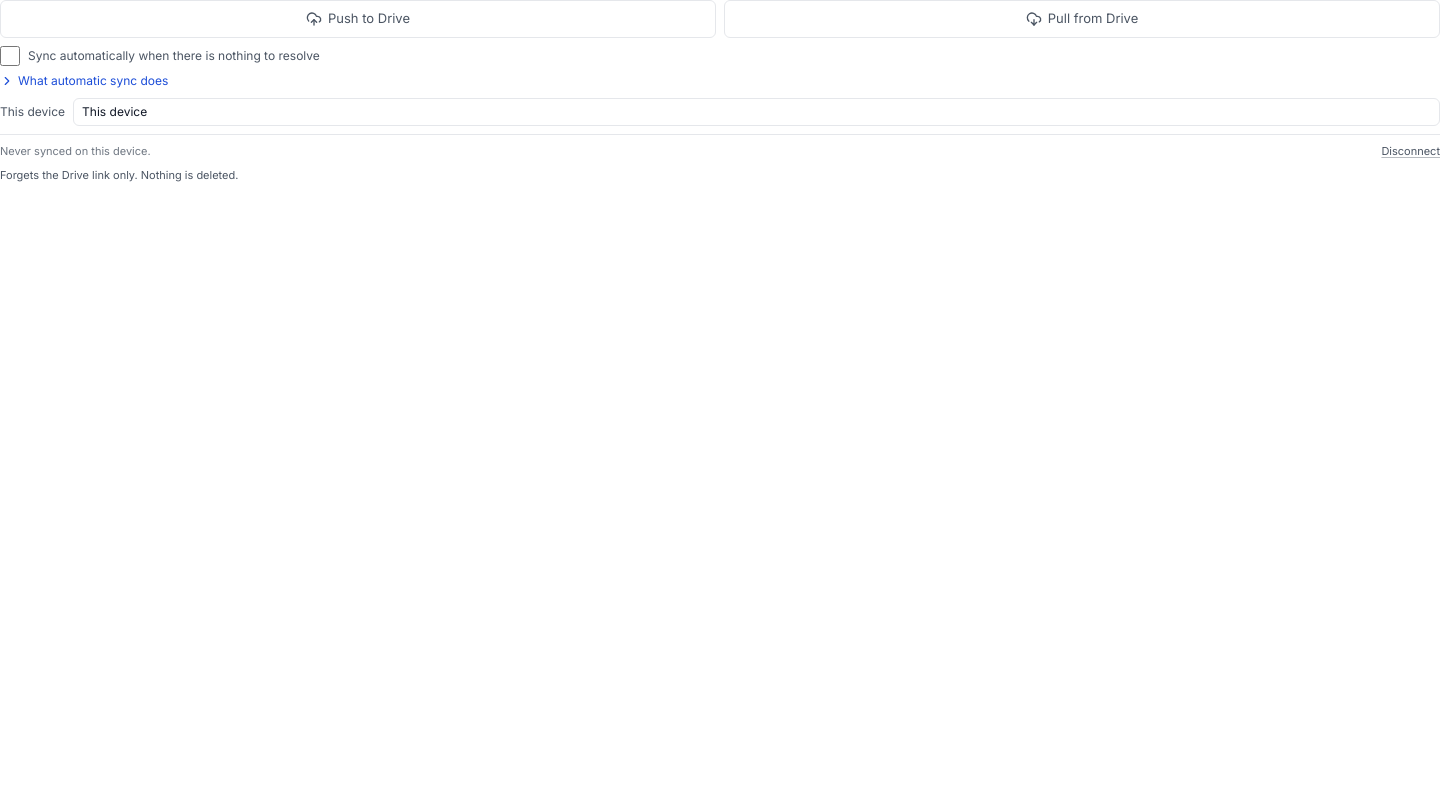
DriveSyncControls › cancels the pull when the user backs out of a conflict dialog
Click the button "Pull from Drive": coordinates (1082, 19) [724,0,1439,38]
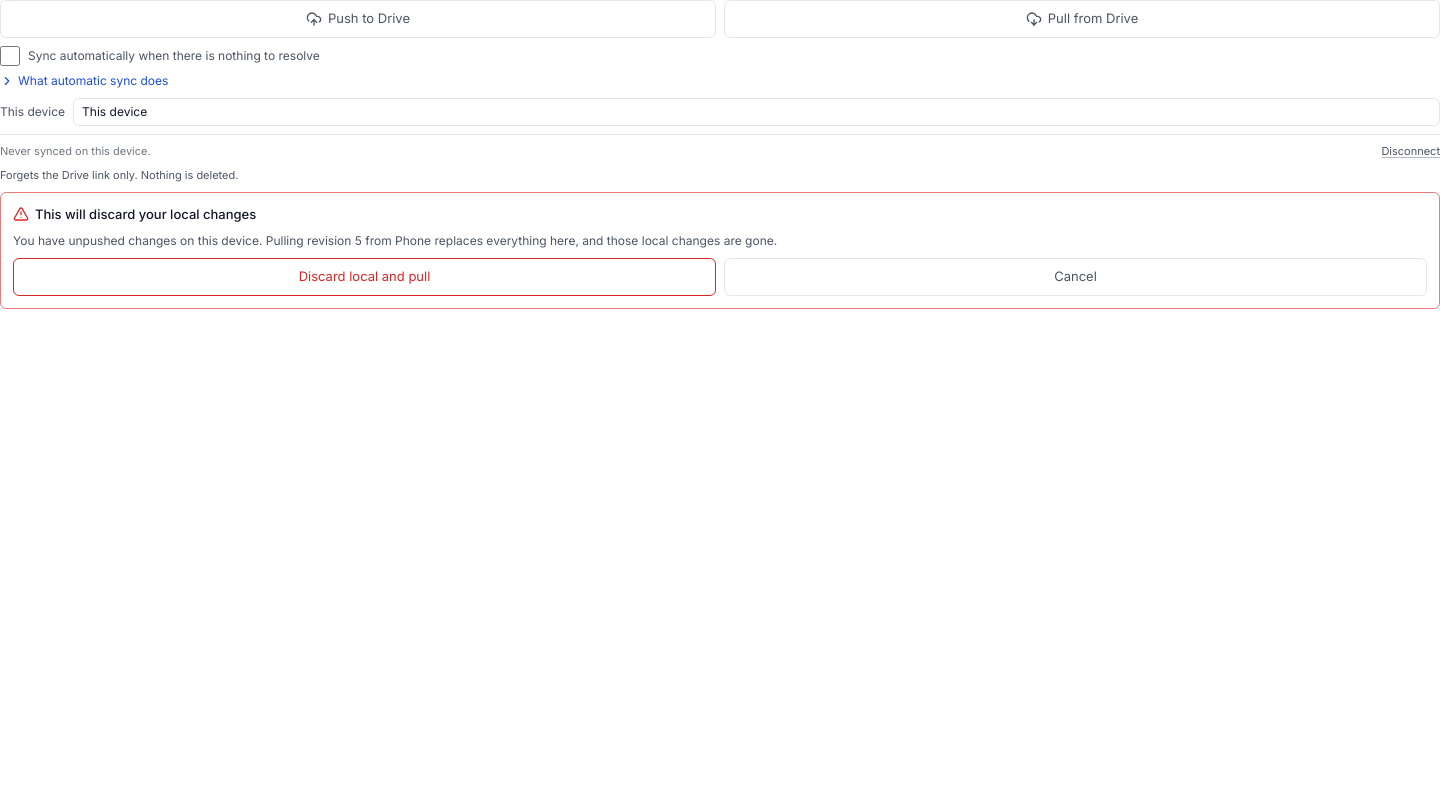
Result: the dialog is shown at [0,192,1439,308]
Click the button "Cancel": coordinates (1076, 277) [724,258,1427,296]
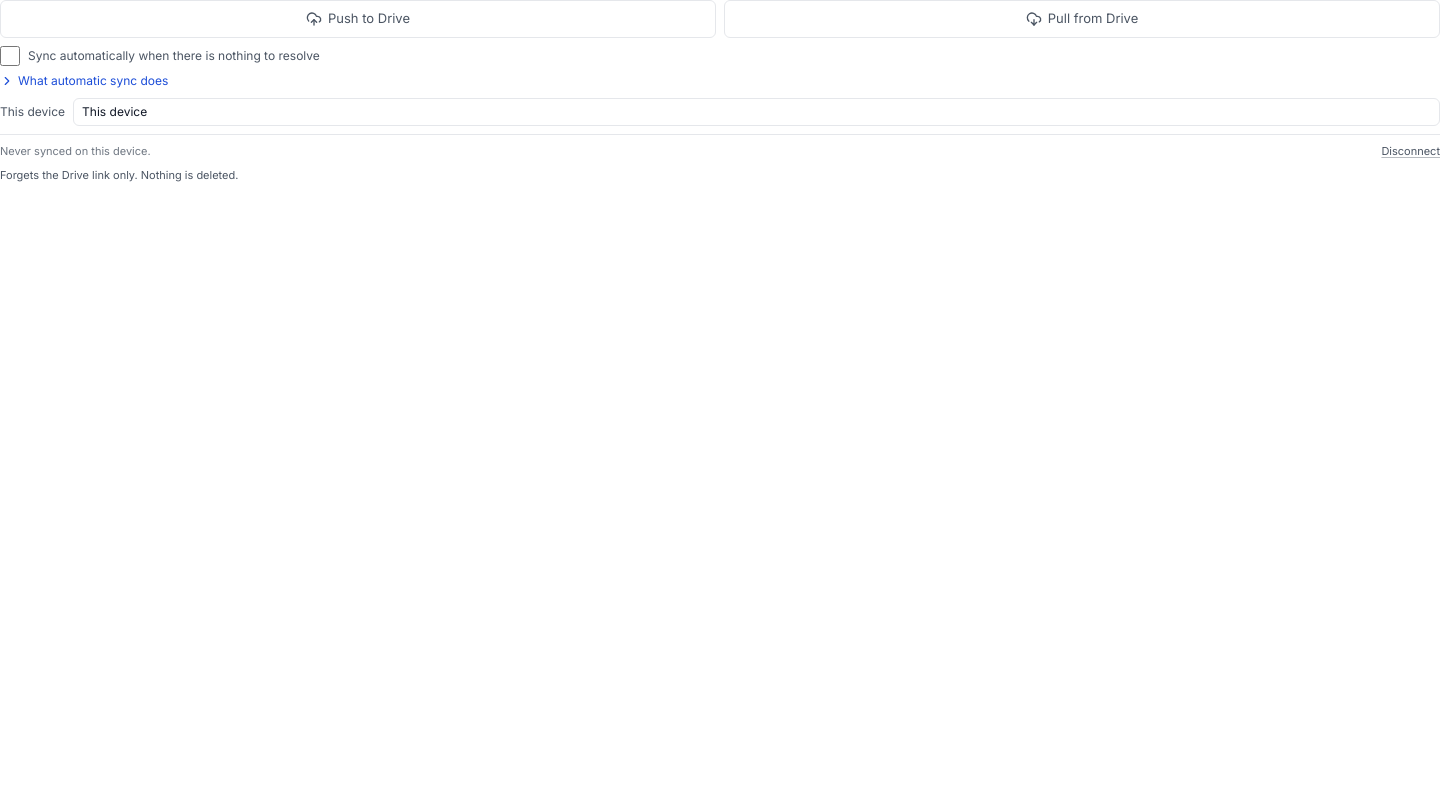
Result: the dialog is gone
